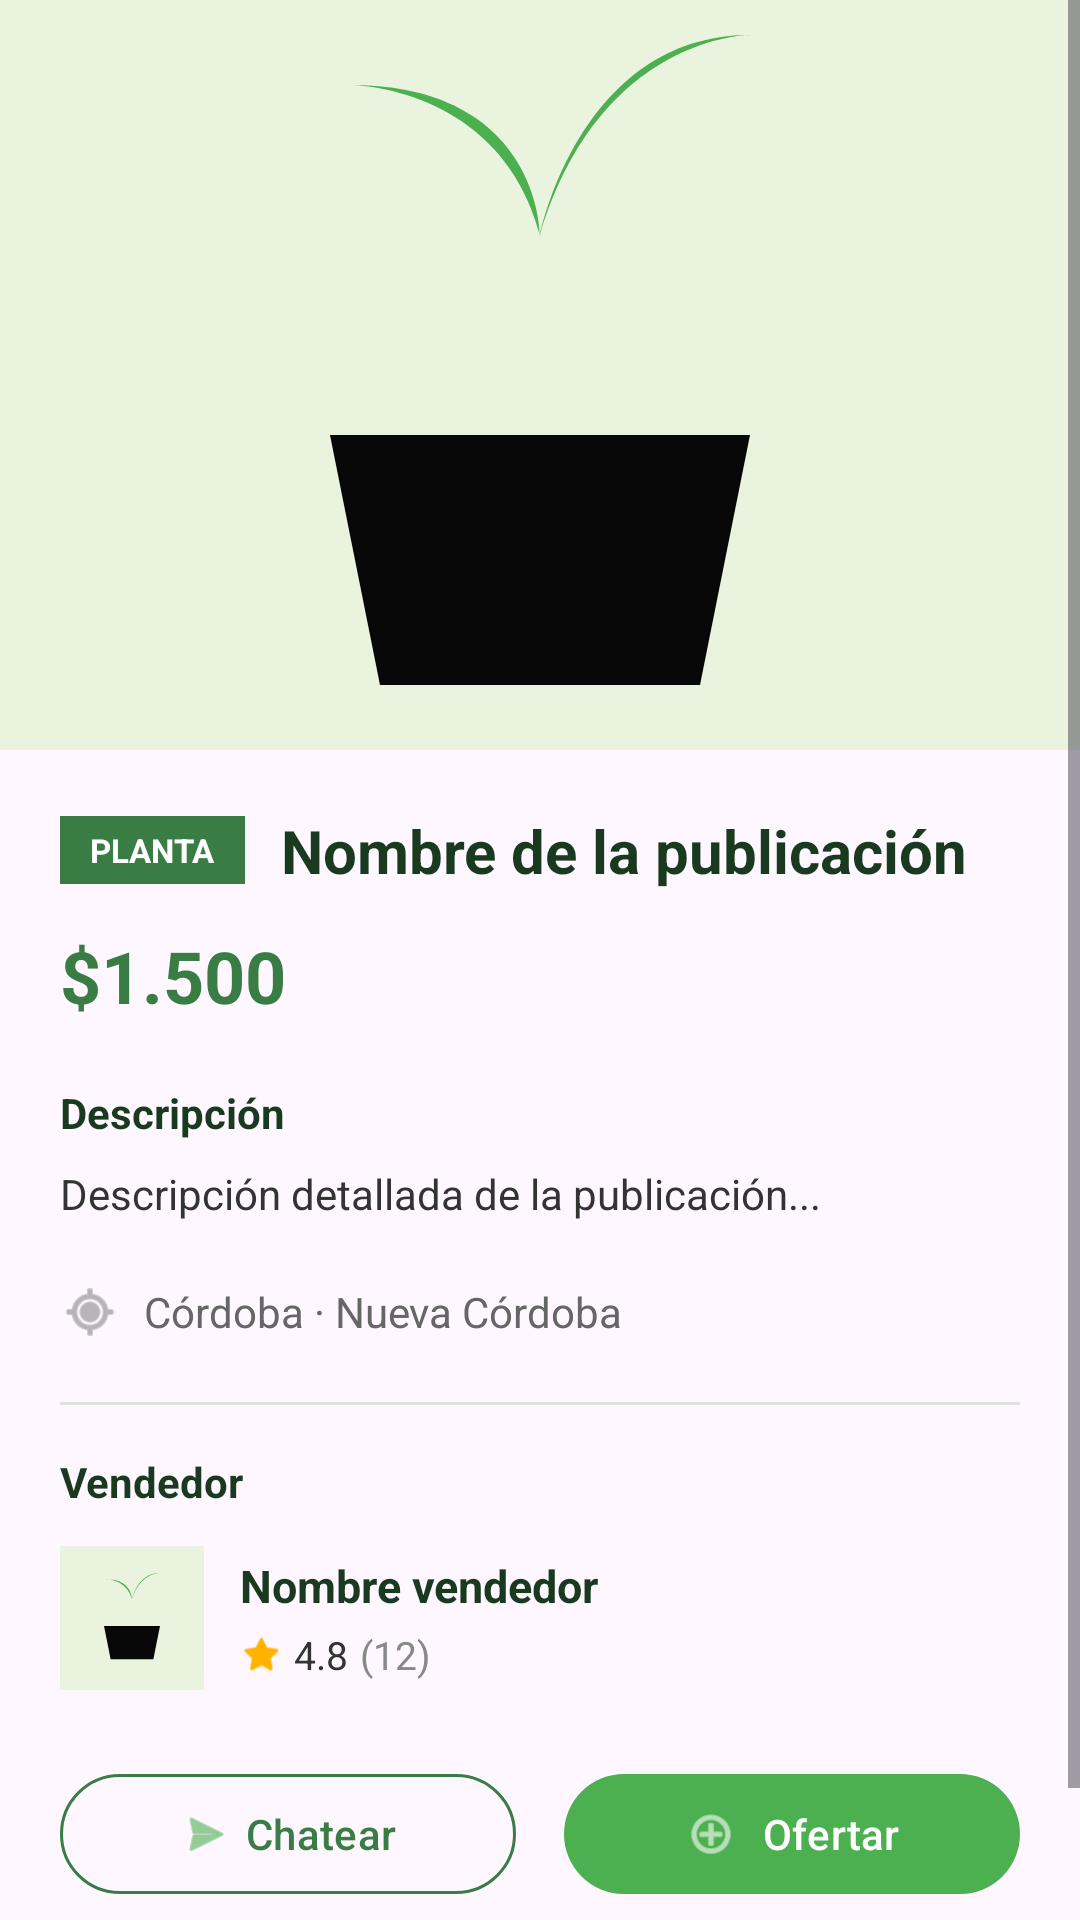

Icon bounding boxes for this 1080w x 1920h phone screenshot, format [x1,y1,x2,y2]:
mylocation: [66,1288,114,1336]
star on: [244,1637,279,1671]
